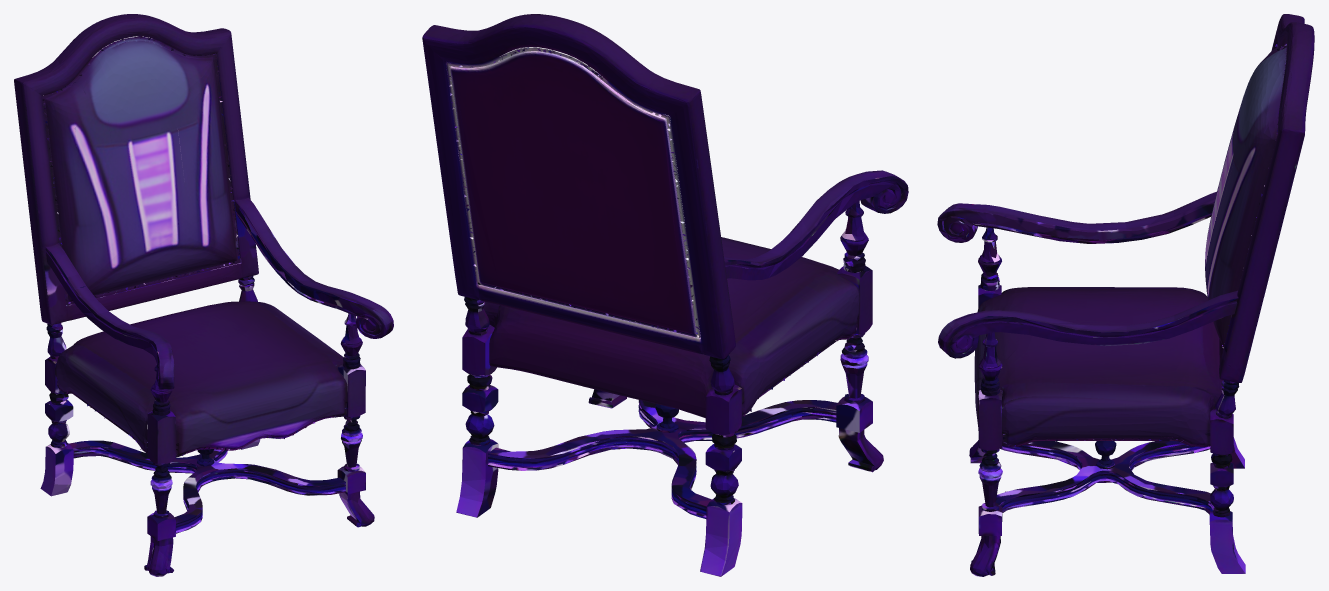
The model's file is edited_mesh.glb.
The picture shows the model from 3 angles, left to right: view 1: azimuth 30°, elevation 25°; view 2: azimuth 150°, elevation 25°; view 3: azimuth 270°, elevation 25°; orthographic projection. The views are drawn at different scales.
Visible parts, largest first — view 1: solid_001_wire; view 2: solid_001_wire; view 3: solid_001_wire.
Boxes of the visible parts, x1,y1,x2,y2 form: solid_001_wire: (14,14,393,576); solid_001_wire: (422,14,908,576); solid_001_wire: (937,14,1314,576).
Size of the model in its own units: 0.8481 by 1.48 by 1.04.
Materials: 1 (1 with a texture image).
